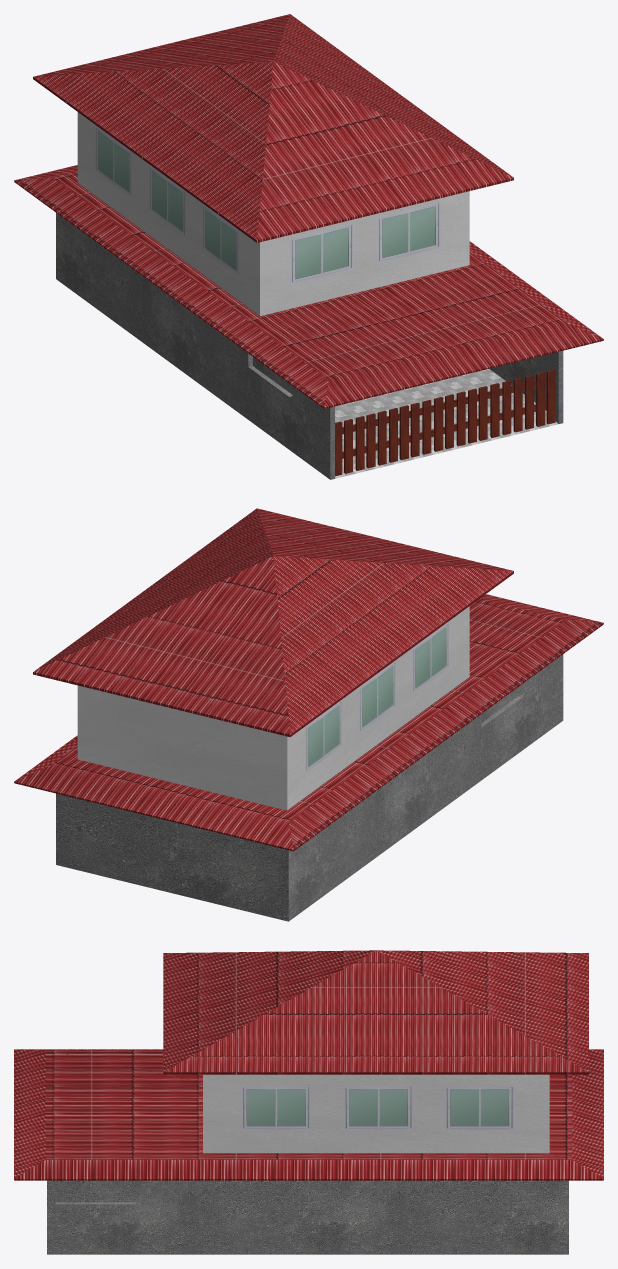
Rendered from Home_1.fbx.
3 renders of one model, top to bottom at view 1: azimuth 30°, elevation 25°; view 2: azimuth 150°, elevation 25°; view 3: azimuth 270°, elevation 25°, orthographic. The views are drawn at different scales.
Visible parts, largest first — view 1: Cube.003, Plane, Cube.001, Cube.002, Plane.011, Plane.003, Plane.002, Plane.007, Plane.008, Plane.009; view 2: Cube.003, Cube.001, Plane, Cube.002, Plane.009, Plane.008, Plane.007; view 3: Cube.003, Plane, Cube.001, Cube.002, Plane.004, Plane.005, Plane.006.
Boxes of the visible parts, x1=… form: Cube.003: x1=33, y1=14, x2=513, y2=242; Plane: x1=14, y1=165, x2=603, y2=408; Cube.001: x1=56, y1=213, x2=563, y2=479; Cube.002: x1=77, y1=112, x2=469, y2=316; Plane.011: x1=335, y1=369, x2=558, y2=478; Plane.003: x1=377, y1=201, x2=440, y2=263; Plane.002: x1=290, y1=223, x2=353, y2=284; Plane.007: x1=95, y1=125, x2=131, y2=198; Plane.008: x1=149, y1=165, x2=185, y2=237; Plane.009: x1=202, y1=204, x2=238, y2=276; Cube.003: x1=33, y1=508, x2=513, y2=737; Cube.001: x1=56, y1=654, x2=563, y2=921; Plane: x1=14, y1=594, x2=603, y2=851; Cube.002: x1=77, y1=606, x2=469, y2=810; Plane.009: x1=412, y1=622, x2=449, y2=694; Plane.008: x1=359, y1=661, x2=395, y2=733; Plane.007: x1=305, y1=700, x2=341, y2=772; Cube.003: x1=163, y1=950, x2=588, y2=1074; Plane: x1=14, y1=1049, x2=603, y2=1180; Cube.001: x1=47, y1=1180, x2=568, y2=1254; Cube.002: x1=203, y1=1074, x2=549, y2=1153; Plane.004: x1=241, y1=1086, x2=311, y2=1130; Plane.005: x1=343, y1=1086, x2=413, y2=1130; Plane.006: x1=444, y1=1086, x2=514, y2=1130.
Size of the model in its own units: 886 by 796 by 1702.
12 materials, 12 textured.
